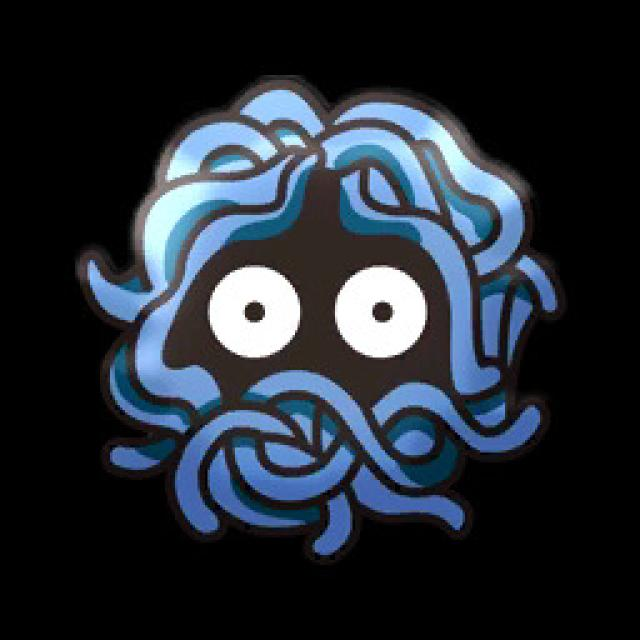Tangela: (64, 66, 580, 562)
